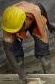gloves: (17, 75, 27, 83), (51, 0, 55, 5)
hard-hat: (1, 6, 25, 33)
mask: (49, 0, 55, 6)
ppe-suit: (28, 0, 55, 42)
vest: (41, 0, 55, 18)
